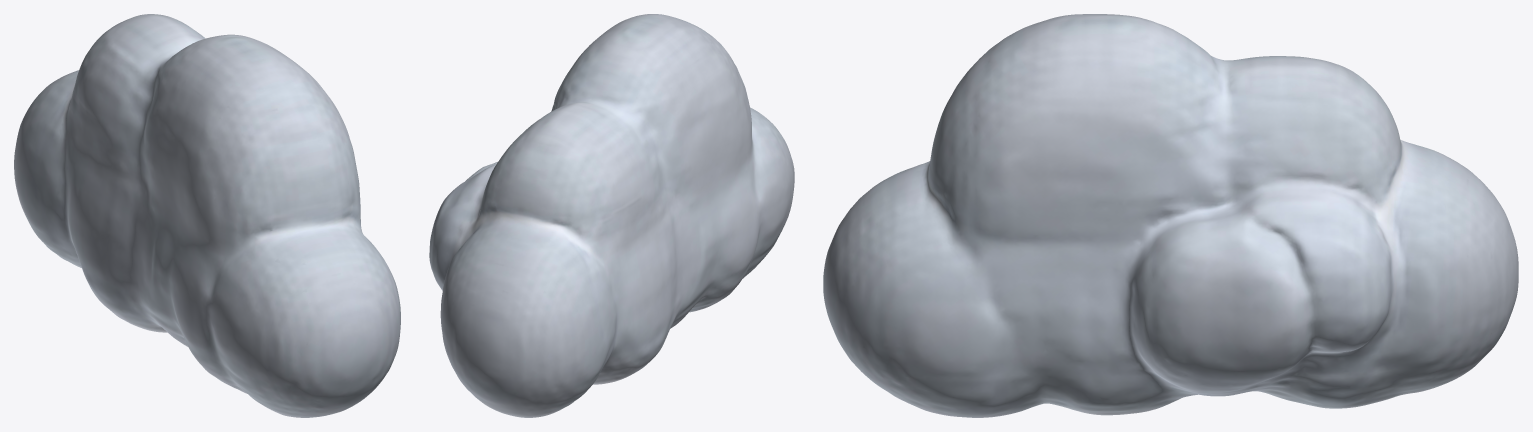
The model's file is Cloud.glb.
The picture shows the model from 3 angles, left to right: view 1: azimuth 30°, elevation 25°; view 2: azimuth 150°, elevation 25°; view 3: azimuth 270°, elevation 25°; orthographic projection. The views are drawn at different scales.
Parts seen in each view (by area): view 1: world; view 2: world; view 3: world.
Part boxes in pixels (x1,y1,x2,y2): world: (14,14,400,417); world: (429,14,794,417); world: (823,14,1518,417).
Bounding box in the file's own units: 0.2506 × 0.3549 × 0.5874.
1 material, 1 textured.
